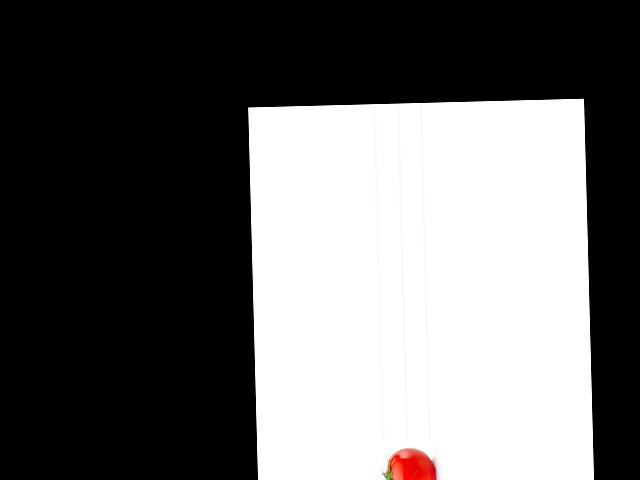tomato: (385, 447, 435, 480)
